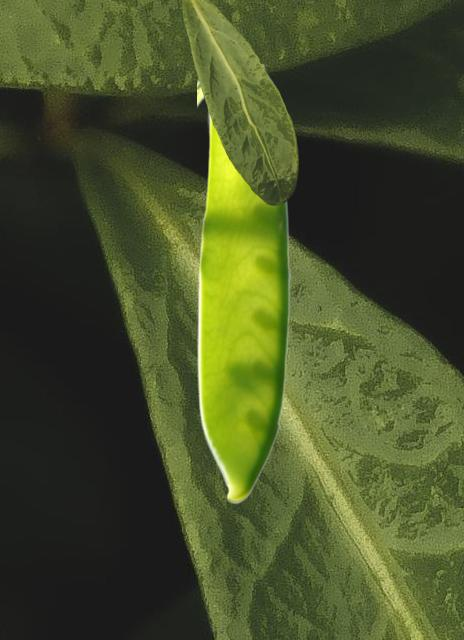pea: (197, 64, 290, 503)
